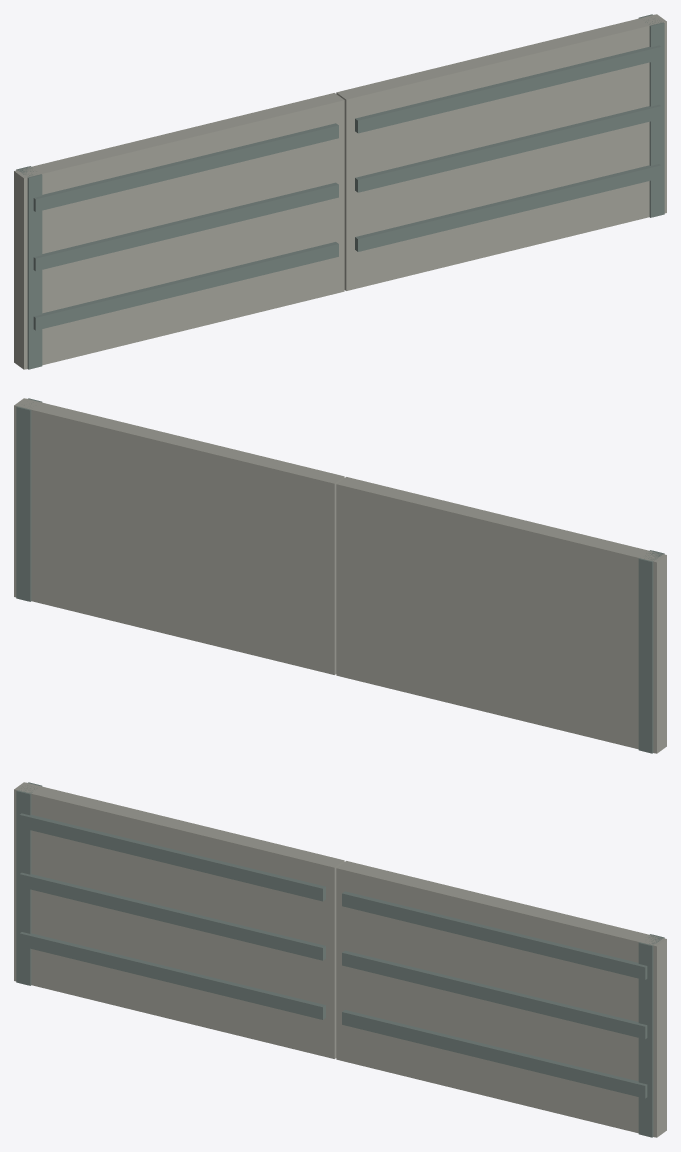
The model's file is SM_PuertaViaDoble_v4_Blindada_e0_Sano_LOD1.fbx.
3 views of the same model, one above another, from view 1: azimuth 30°, elevation 25°; view 2: azimuth 150°, elevation 25°; view 3: azimuth 330°, elevation 25° (orthographic).
Parts seen in each view (by area): view 1: Hoja_O, Hoja_E; view 2: Hoja_O, Hoja_E; view 3: Hoja_E, Hoja_O.
Boxes of the visible parts, x1=… form: Hoja_O: x1=14, y1=93, x2=344, y2=369; Hoja_E: x1=336, y1=14, x2=666, y2=290; Hoja_O: x1=336, y1=477, x2=666, y2=753; Hoja_E: x1=14, y1=398, x2=344, y2=674; Hoja_E: x1=336, y1=861, x2=666, y2=1137; Hoja_O: x1=14, y1=782, x2=344, y2=1058.
Size of what is drawn, in the model's own units: 7.38 by 2.1 by 0.28.
